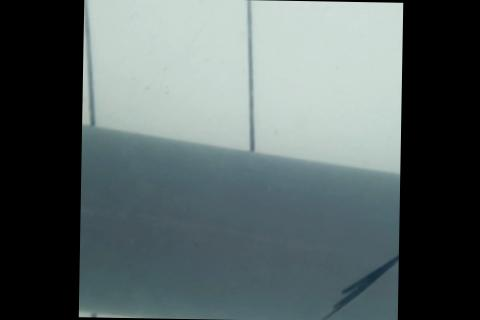keretakan: (316, 224, 399, 320)
